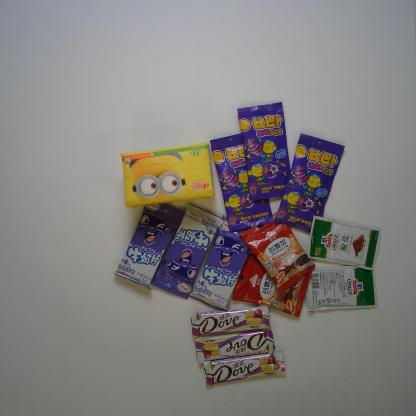Candy: (274, 130, 346, 233), (150, 201, 224, 301), (209, 133, 275, 233), (112, 202, 184, 292), (188, 213, 251, 312), (236, 100, 292, 202)
Chocolate: (202, 349, 286, 386), (193, 329, 277, 365), (190, 304, 273, 339)
Instant Drink: (239, 222, 317, 295), (231, 253, 313, 319)
Seasoner: (307, 214, 383, 272), (305, 266, 379, 315)
Tissue: (120, 140, 217, 210)
